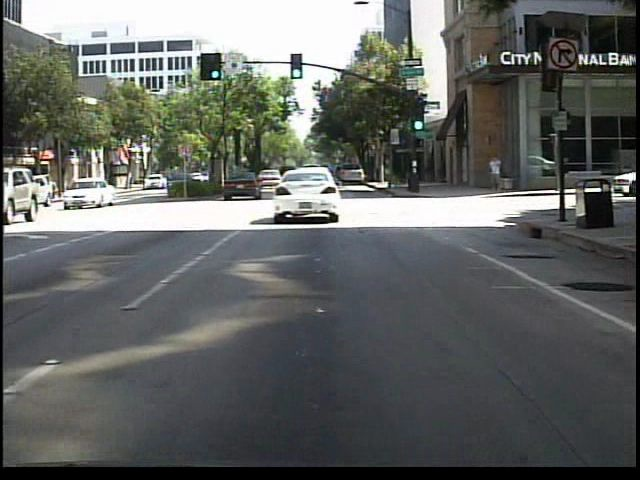person: (486, 153, 504, 194)
